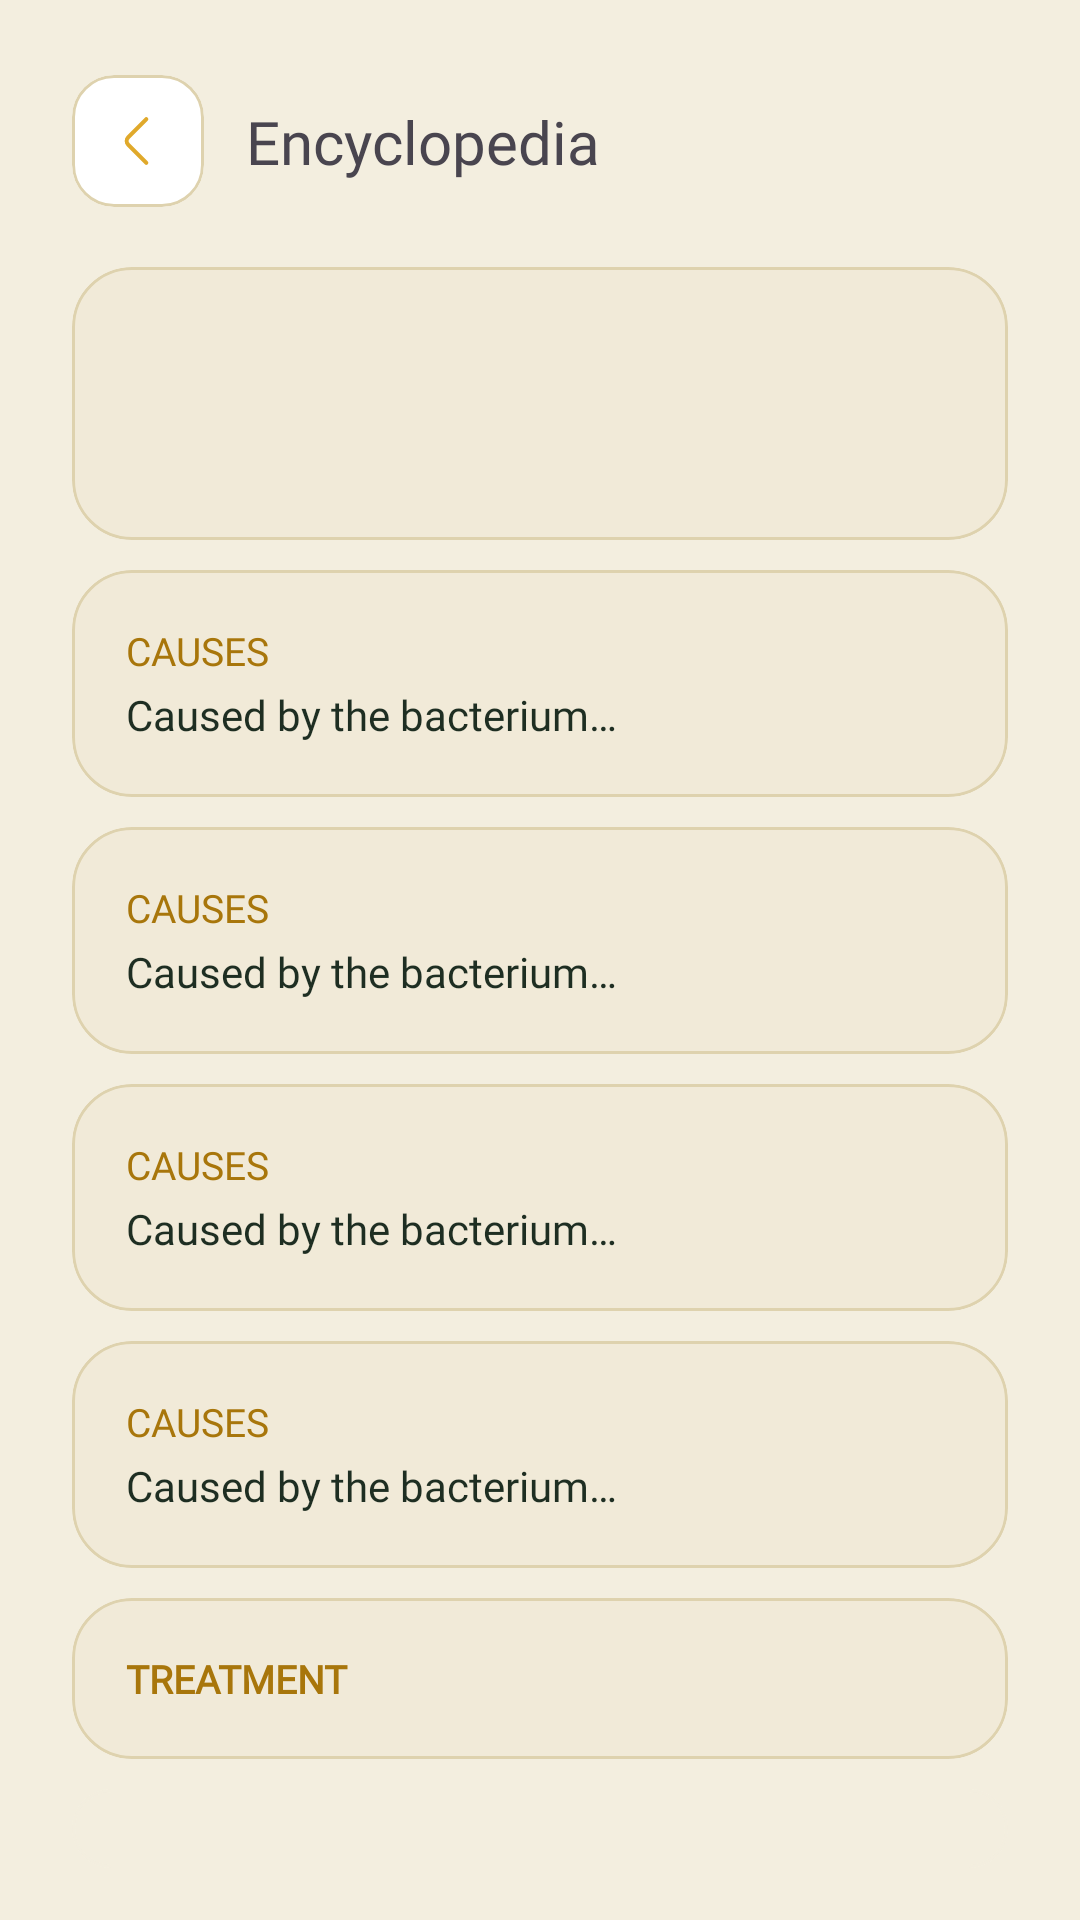

Locate icon controls on the screen. Image size 1080px×1920px, boxes as (x1, y1, x2, y2).
Back: (124, 117, 149, 165)
